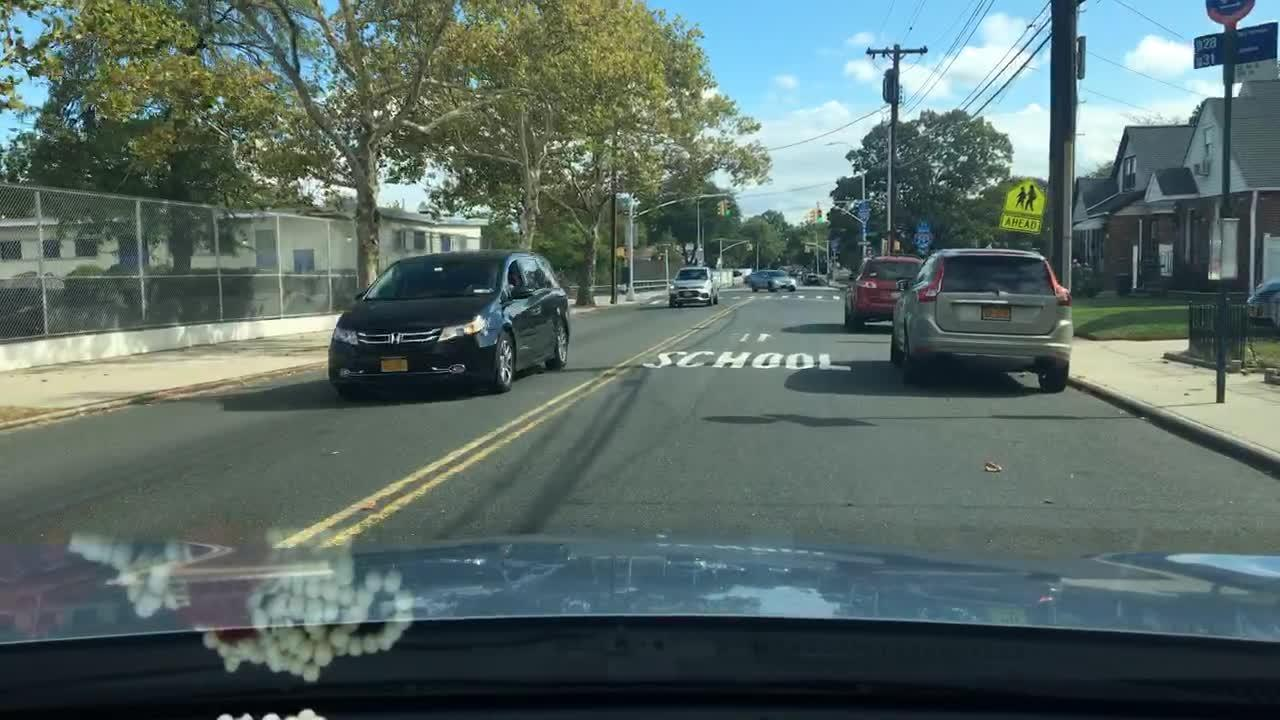Honda: (382, 323, 407, 352)
